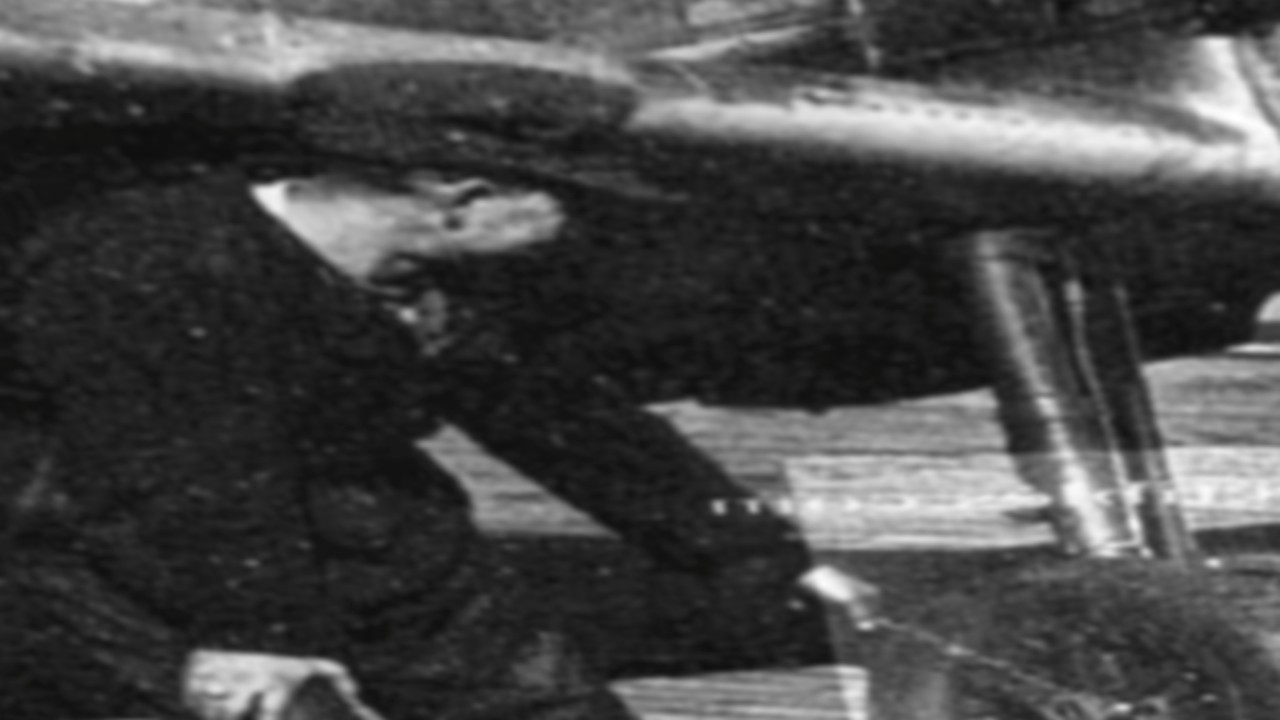wheel: (784, 498, 1280, 720)
